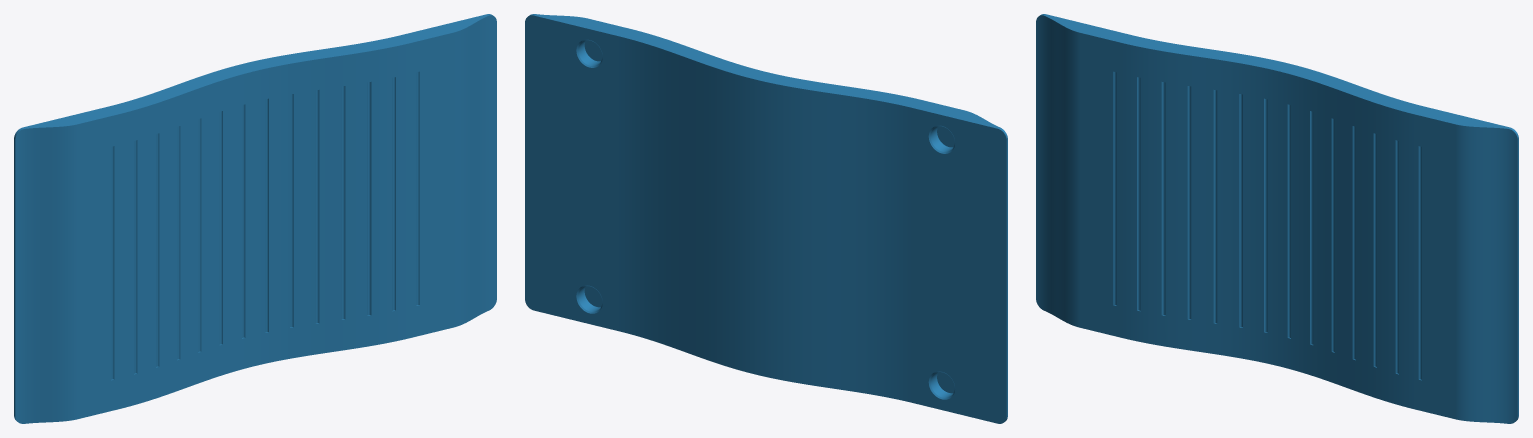
3 views of the same model, side by side, from view 1: azimuth 30°, elevation 25°; view 2: azimuth 150°, elevation 25°; view 3: azimuth 330°, elevation 25° (orthographic).
Parts seen in each view (by area): view 1: BR01_Sky; view 2: BR01_Sky; view 3: BR01_Sky.
Boxes of the visible parts, bbox=[...] form: BR01_Sky: bbox=[14, 14, 496, 423]; BR01_Sky: bbox=[525, 14, 1007, 423]; BR01_Sky: bbox=[1036, 14, 1518, 423].
Size of the model in its own units: 164 by 96 by 12.2.
